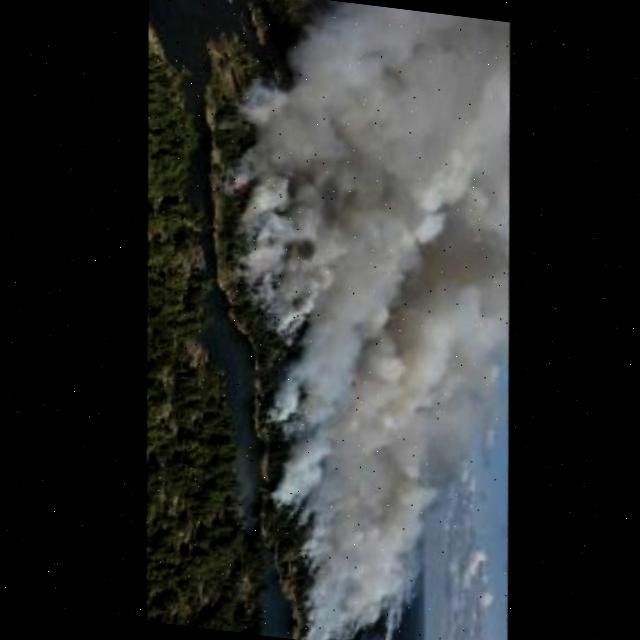fire: (139, 0, 582, 640)
